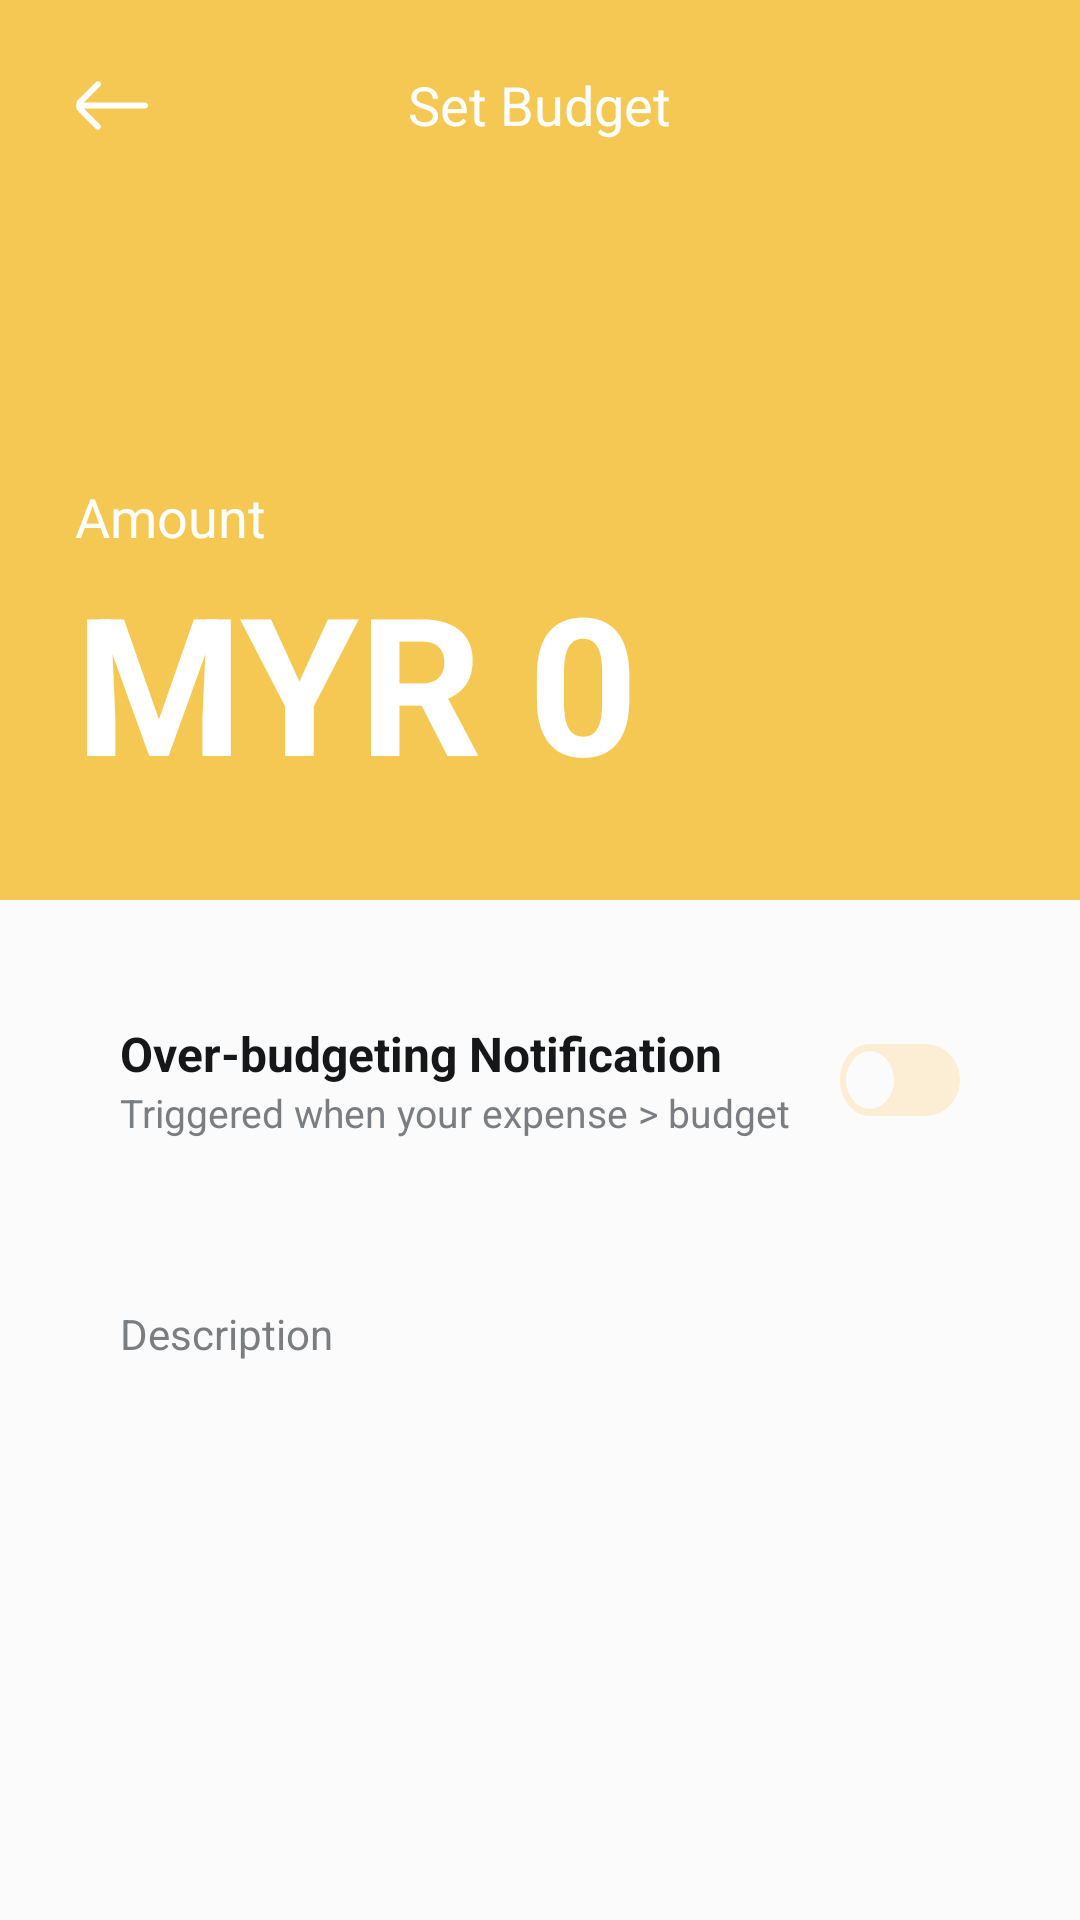

Icons on this 1080w x 1920h Android screen, each with the point to tap as point (x, y):
return: point (112, 105)
